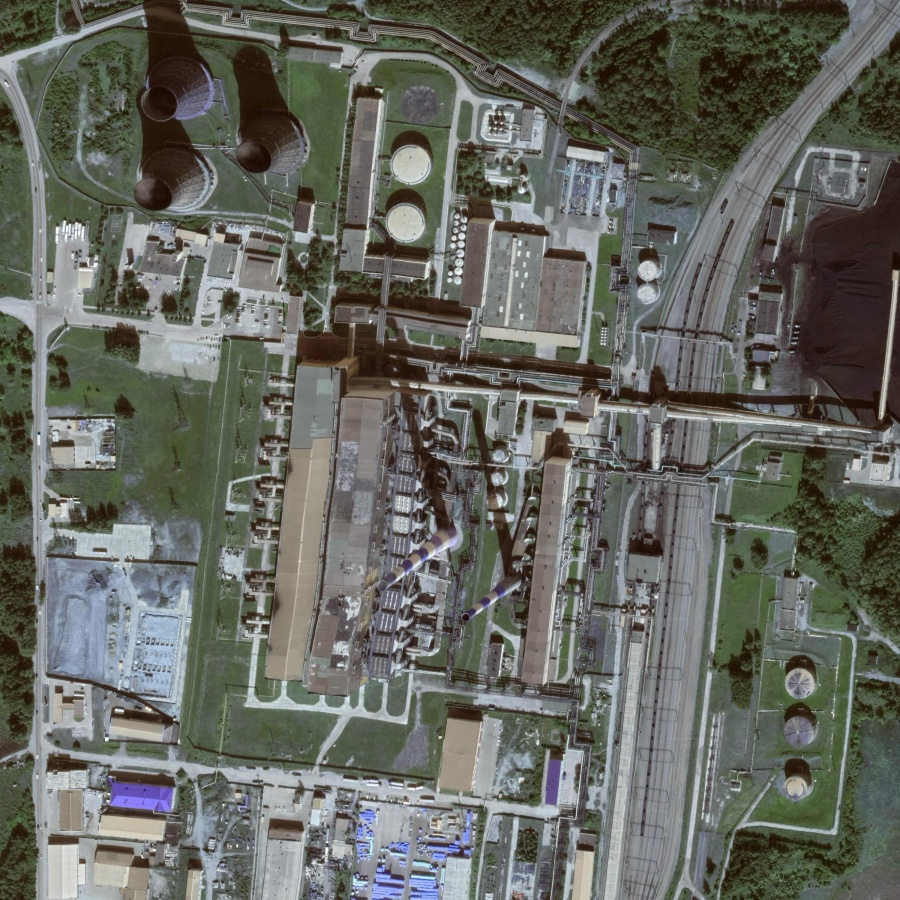PowerPlant: (346, 324, 600, 652), (706, 641, 854, 816)
